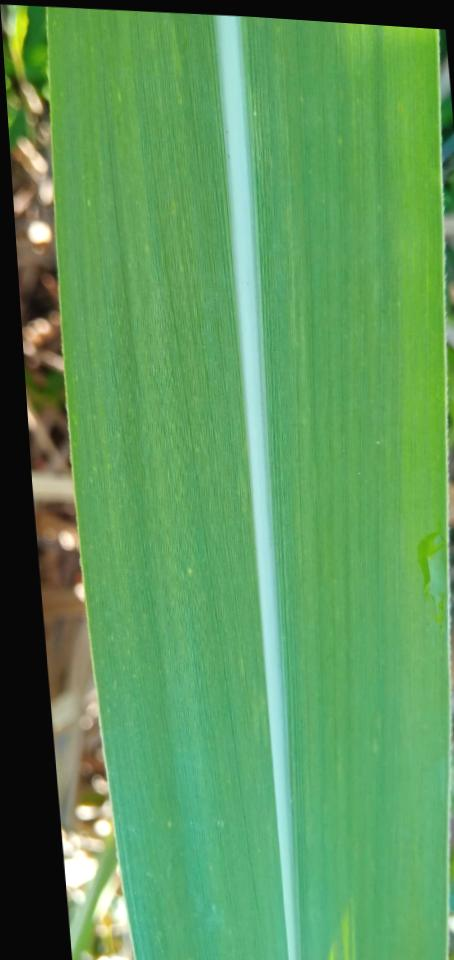Healthy: (48, 7, 450, 960)
